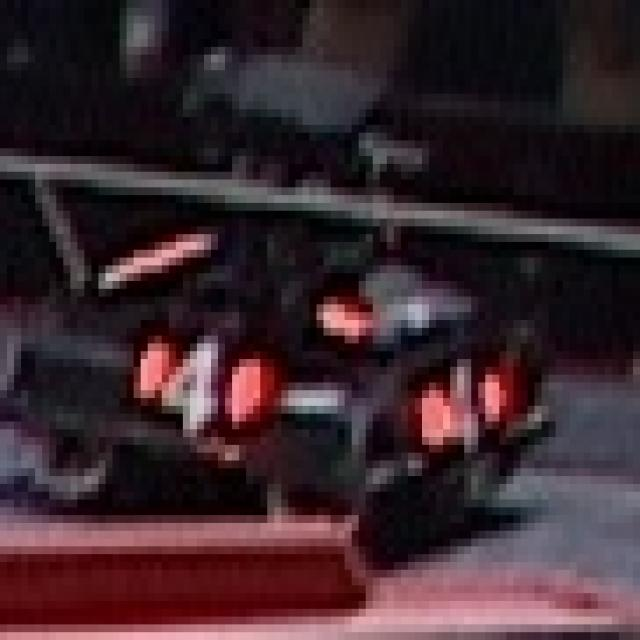R4: (120, 328, 267, 437), (408, 351, 506, 445)
